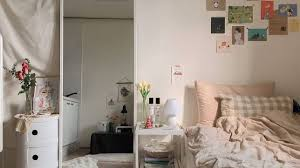Bed: (180, 78, 300, 168)
